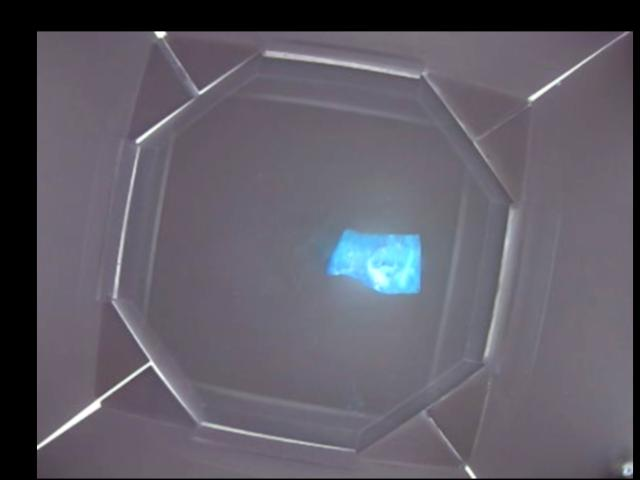Carrot: (326, 227, 421, 293)
